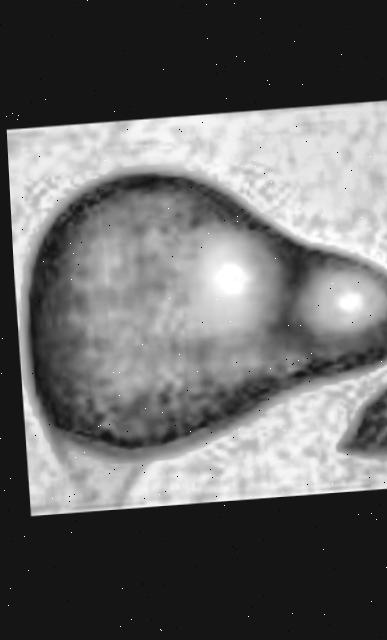La Pera: (5, 106, 387, 516)
